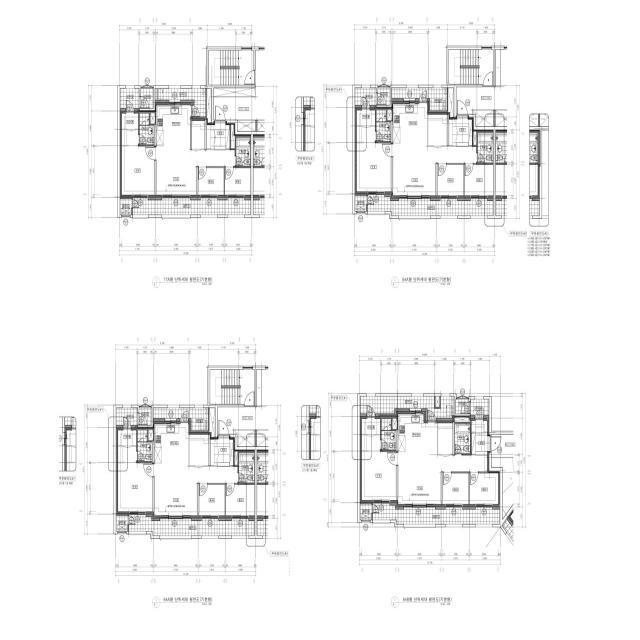space_balconi: (373, 503, 500, 524), (129, 515, 254, 535), (368, 195, 493, 215), (360, 396, 454, 421), (133, 198, 251, 215), (155, 89, 206, 117), (153, 408, 208, 431), (392, 88, 447, 111), (120, 88, 139, 111), (355, 88, 376, 108), (116, 408, 137, 428), (471, 399, 489, 418)
space_bedroom: (355, 143, 391, 194), (116, 463, 152, 514), (360, 451, 396, 500), (120, 146, 154, 197), (470, 473, 500, 504), (226, 485, 254, 518), (465, 165, 493, 198), (199, 485, 225, 518), (438, 165, 464, 198), (443, 473, 469, 504), (198, 168, 224, 197), (225, 168, 251, 197)
space_dressroom: (116, 428, 136, 463), (355, 108, 375, 143), (360, 419, 380, 450), (120, 111, 138, 145)
space_elevator_hall: (456, 87, 496, 114), (218, 407, 257, 434), (214, 97, 256, 120), (491, 434, 514, 457)
space_front: (210, 435, 234, 467), (449, 115, 472, 147), (207, 121, 230, 150), (471, 433, 490, 455)
space_kitchen: (398, 414, 437, 455), (156, 103, 190, 150), (154, 421, 189, 464), (393, 101, 427, 144)
space_living_room: (154, 464, 238, 518), (393, 144, 476, 198), (398, 455, 489, 504), (156, 150, 235, 197)
space_other: (428, 112, 447, 145), (189, 432, 208, 465), (438, 421, 453, 454), (190, 118, 205, 150), (214, 88, 255, 97), (234, 430, 255, 446), (473, 110, 494, 126), (141, 88, 153, 108), (139, 408, 151, 425), (378, 88, 390, 105), (237, 120, 255, 131), (456, 399, 469, 414), (472, 421, 489, 432), (209, 408, 215, 437), (448, 88, 454, 117), (207, 88, 211, 123), (231, 125, 235, 148), (455, 417, 470, 422), (473, 131, 477, 145), (150, 113, 155, 124), (392, 418, 397, 429), (387, 110, 392, 120), (148, 430, 153, 440), (436, 396, 440, 407), (235, 451, 238, 465)
space_outdoor_room: (116, 515, 128, 531), (360, 504, 372, 520), (120, 199, 131, 215), (355, 195, 366, 211)
space_staircase: (210, 369, 255, 404), (209, 50, 253, 85), (449, 49, 493, 84)
space_toilet: (381, 418, 396, 450), (139, 113, 154, 145), (137, 430, 152, 461), (376, 110, 391, 141), (455, 423, 470, 454), (478, 133, 493, 163), (239, 453, 254, 483), (236, 137, 251, 166)
